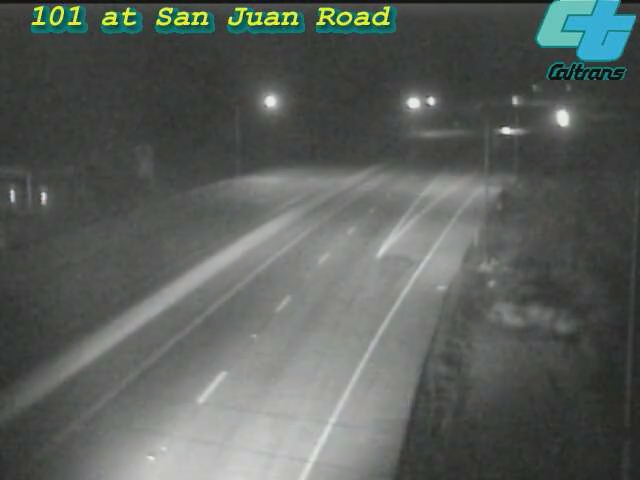vehicle: (482, 104, 532, 154), (534, 93, 584, 143)
